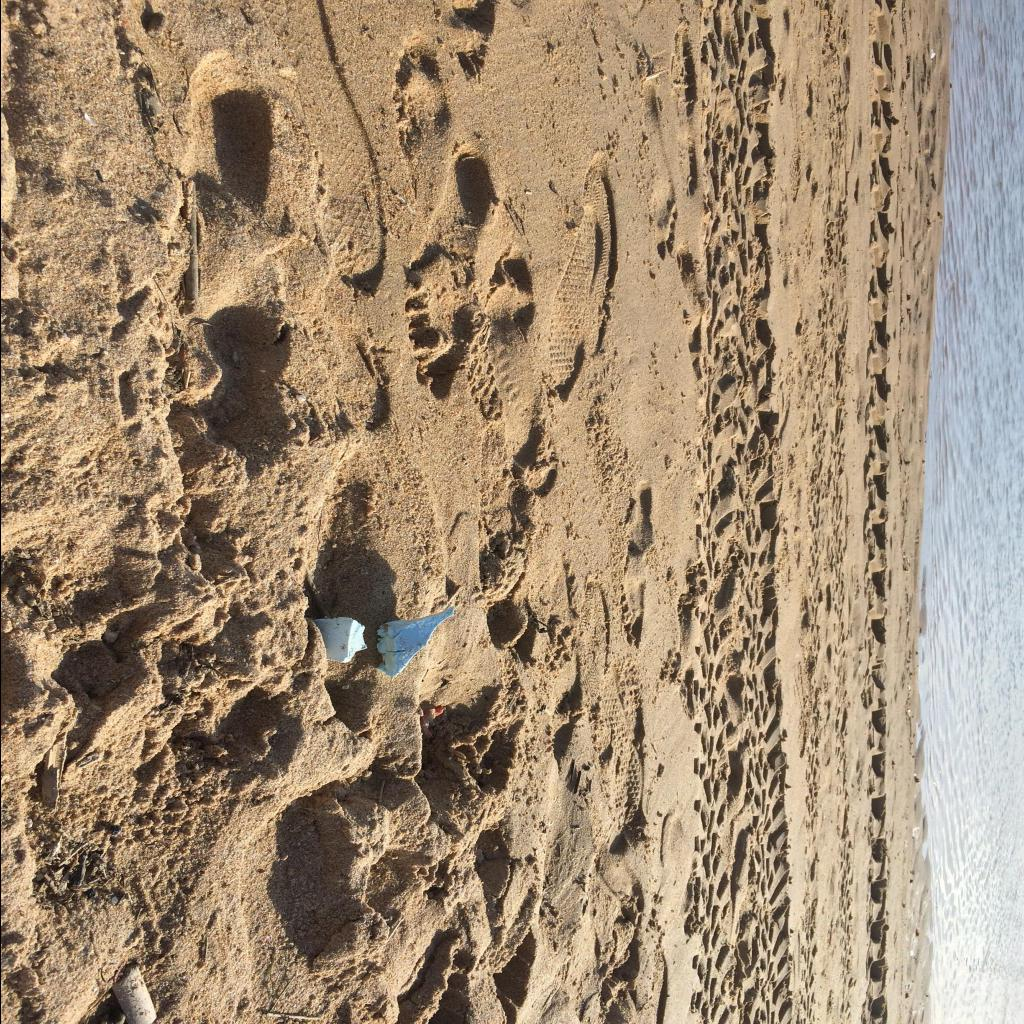Styrofoam piece: (374, 606, 454, 678), (312, 618, 366, 662)
Unlabeled litter: (420, 706, 446, 738)
